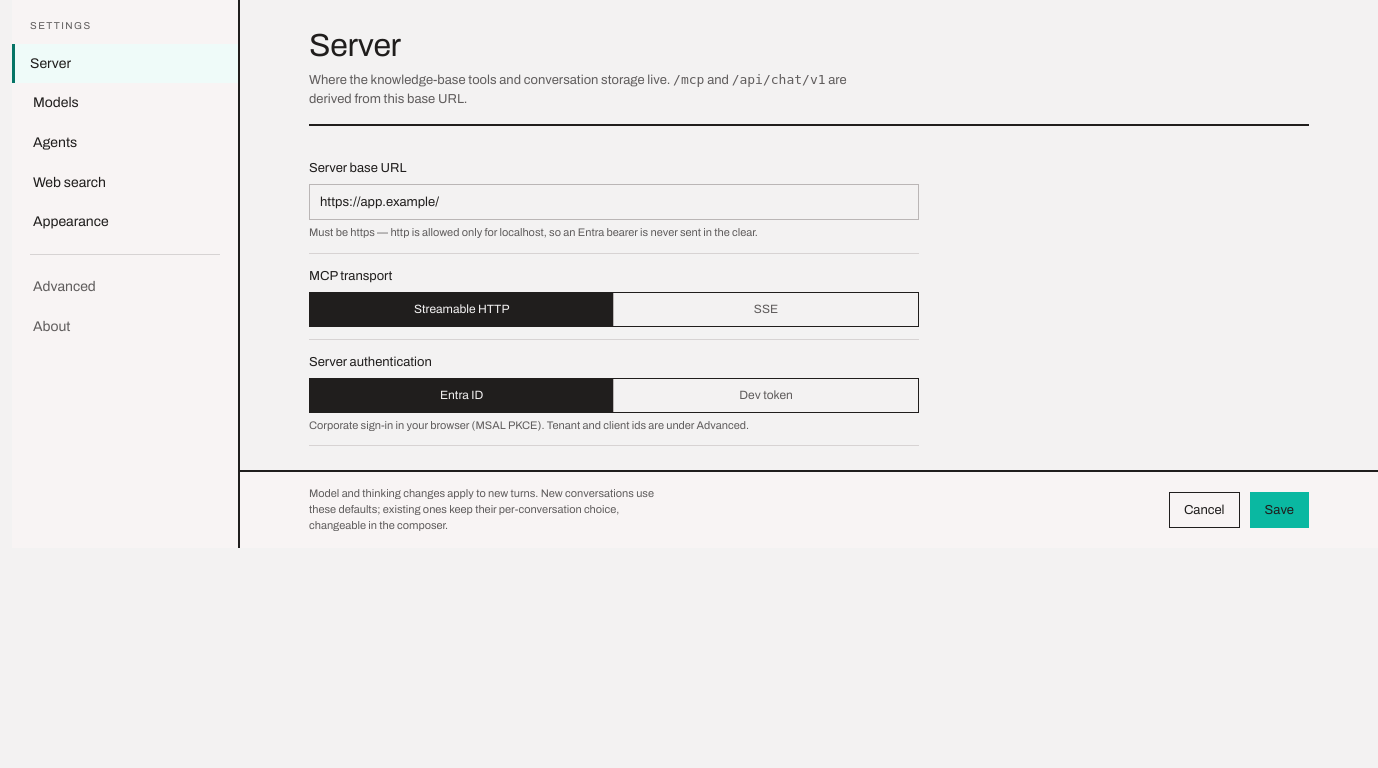
Test case: SettingsView › surfaces a rejected save as an inline error and does not close
Click the button "Save".
click(1279, 510)  # box top-left (1250, 492), bottom-right (1309, 528)
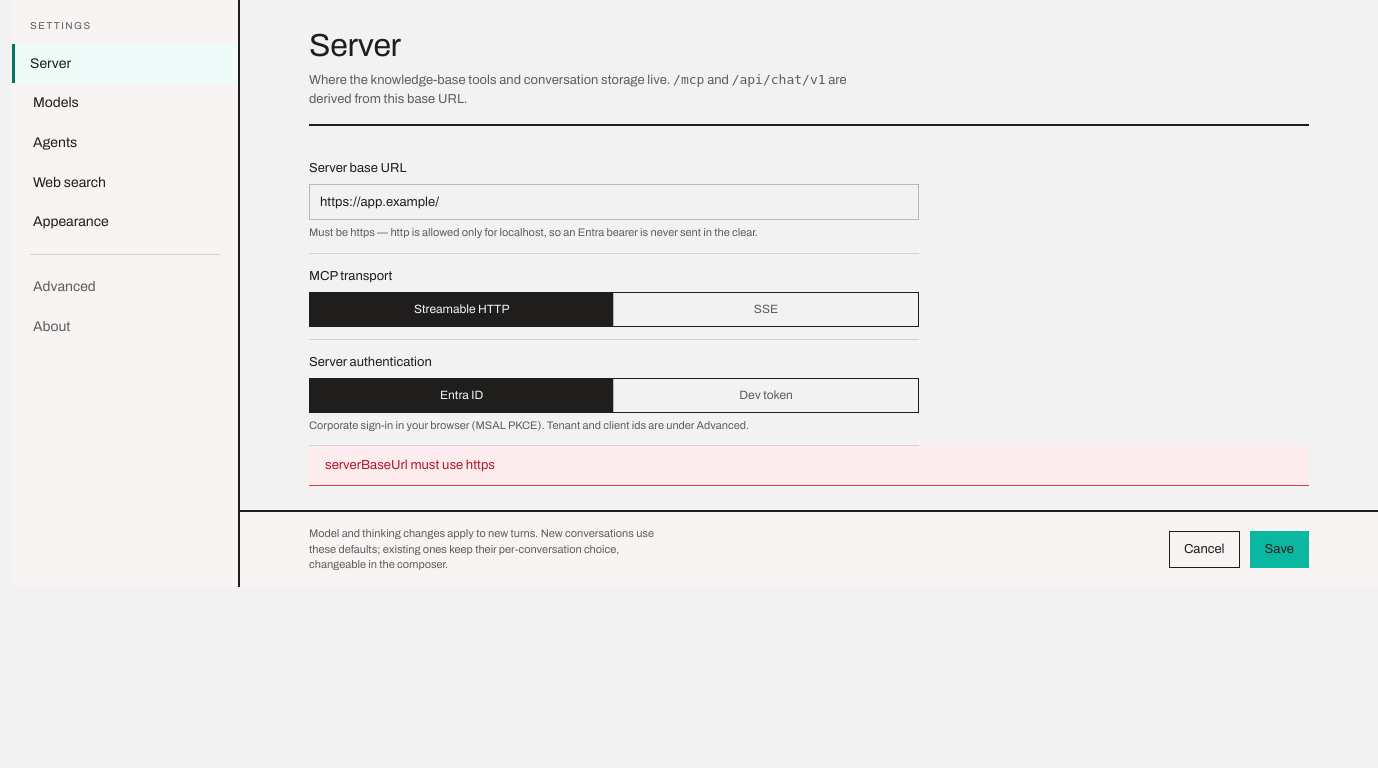
Check: the text "serverBaseUrl must use https" is shown, box top-left (309, 446), bottom-right (1309, 486)
